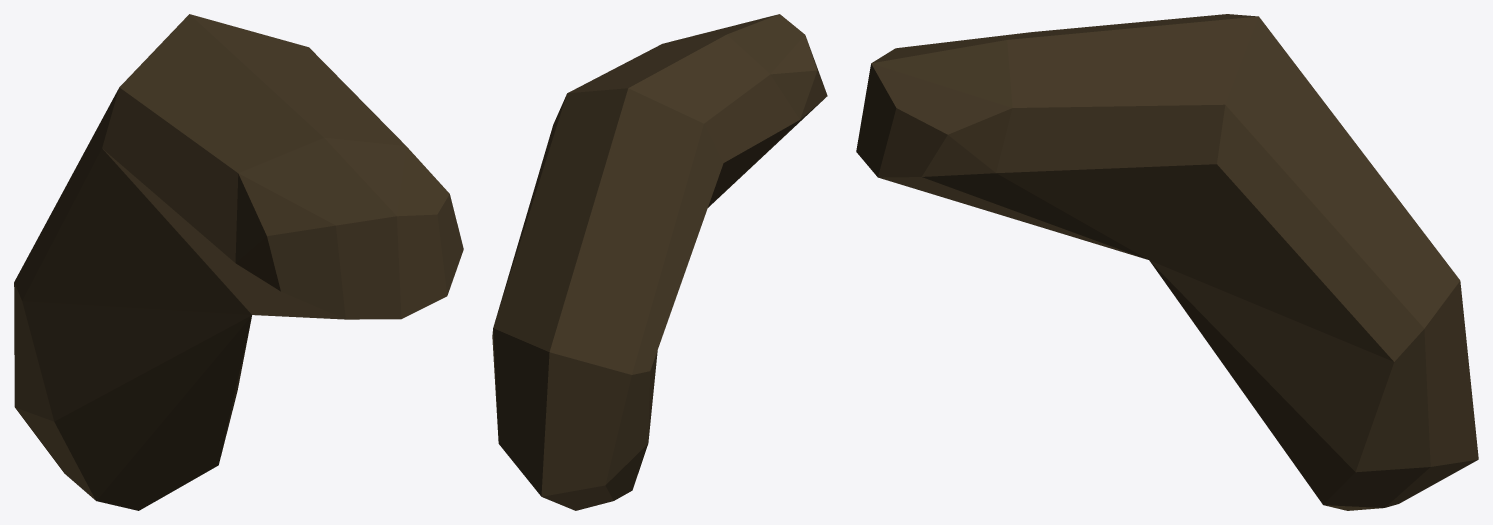
The model's file is Chr_Hair_15_Static.fbx.
3 renders of one model, left to right at view 1: azimuth 30°, elevation 25°; view 2: azimuth 150°, elevation 25°; view 3: azimuth 270°, elevation 25°, orthographic. The views are drawn at different scales.
Visible parts, largest first — view 1: Chr_Hair_15_Static; view 2: Chr_Hair_15_Static; view 3: Chr_Hair_15_Static.
Boxes of the visible parts, x1=… form: Chr_Hair_15_Static: x1=14, y1=14, x2=463, y2=510; Chr_Hair_15_Static: x1=492, y1=14, x2=827, y2=510; Chr_Hair_15_Static: x1=856, y1=14, x2=1478, y2=510.
Bounding box in the file's own units: 0.0922 × 0.1998 × 0.2274.
